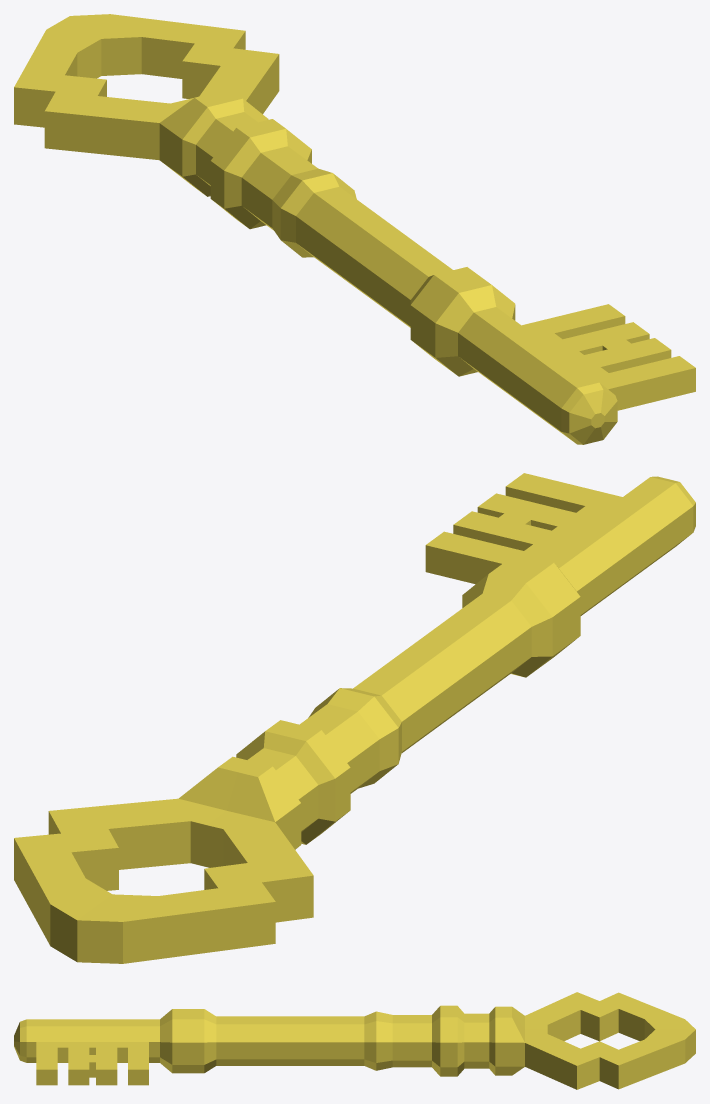
Rendered from Key.fbx.
3 views of the same model, one above another, from view 1: azimuth 30°, elevation 25°; view 2: azimuth 150°, elevation 25°; view 3: azimuth 270°, elevation 25° (orthographic). The views are drawn at different scales.
Visible parts, largest first — view 1: Cube; view 2: Cube; view 3: Cube.
Part boxes in pixels (x1=…): Cube: x1=14, y1=14, x2=695, y2=444; Cube: x1=14, y1=473, x2=695, y2=963; Cube: x1=14, y1=992, x2=695, y2=1089.
Size of the model in its own units: 61.84 by 23.12 by 241.
